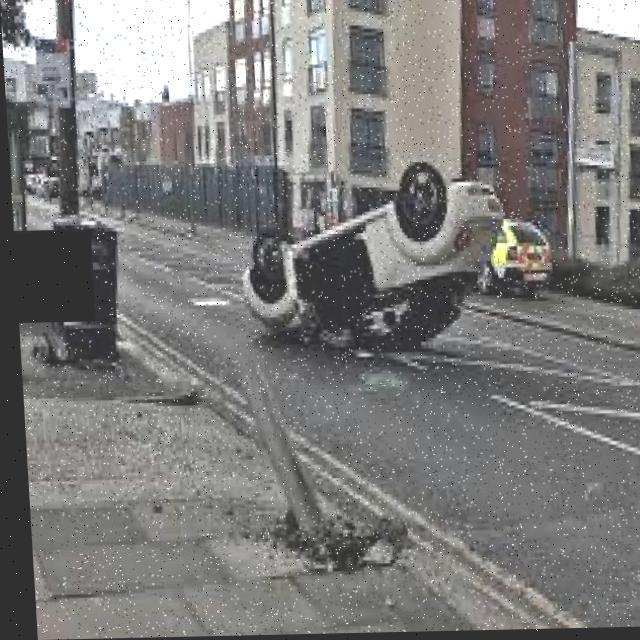single accident: (190, 152, 518, 364)
